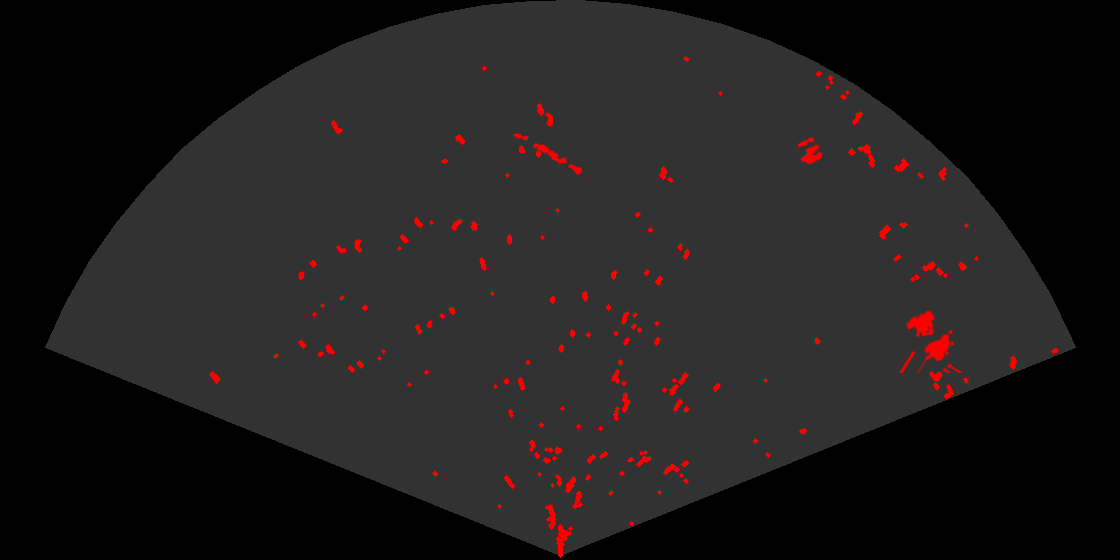ball: (796, 136, 825, 166)
cage: (897, 309, 965, 373)
chain: (512, 131, 591, 180)
